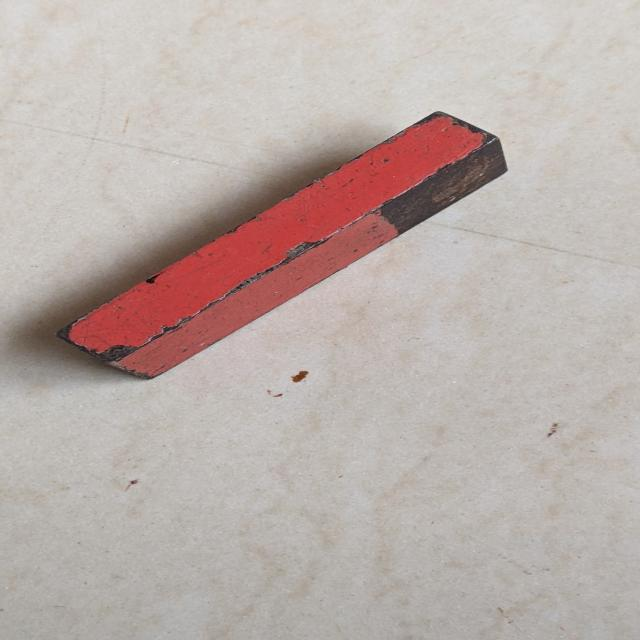Magnet: (39, 86, 526, 378)
